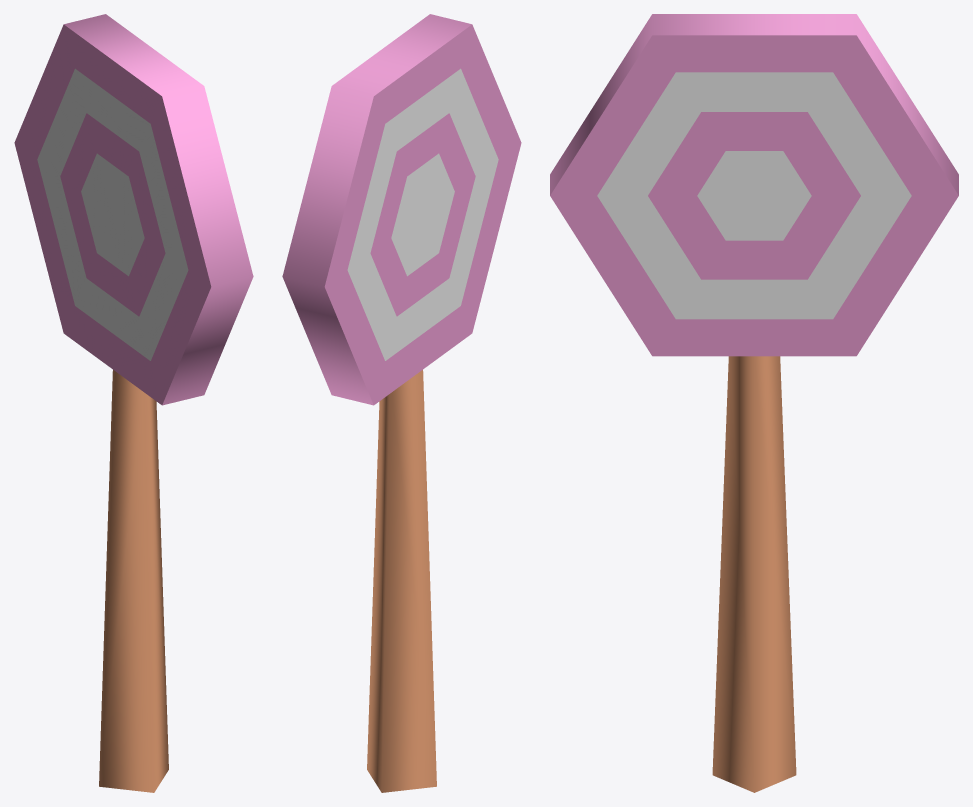
Rendered from lollypop.GLB.
The picture shows the model from 3 angles, left to right: view 1: azimuth 30°, elevation 25°; view 2: azimuth 150°, elevation 25°; view 3: azimuth 270°, elevation 25°; orthographic projection. The views are drawn at different scales.
Visible parts, largest first — view 1: lollypop; view 2: lollypop; view 3: lollypop.
Boxes of the visible parts, x1,y1,x2,y2 form: lollypop: (14, 14, 253, 792); lollypop: (282, 14, 521, 792); lollypop: (550, 14, 958, 792).
Bounding box in the file's own units: 0.0385 × 0.3798 × 0.1875.
